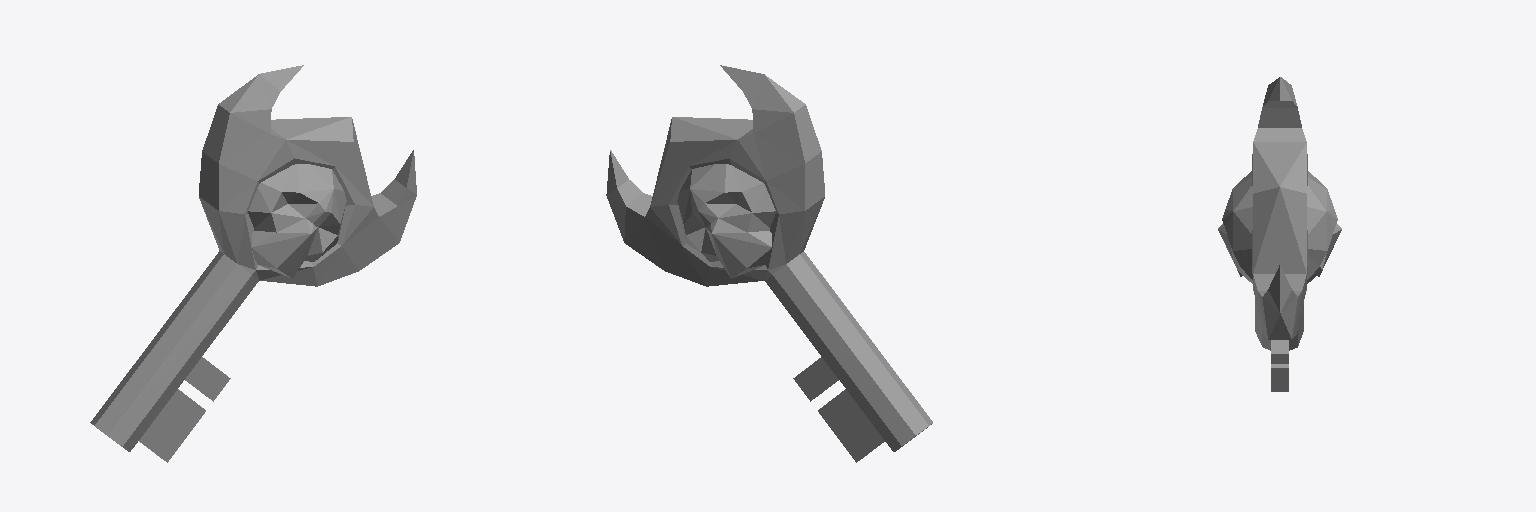
Rendered from Boss_Key.obj.
3 renders of one model, left to right at view 1: azimuth 30°, elevation 25°; view 2: azimuth 150°, elevation 25°; view 3: azimuth 270°, elevation 25°, orthographic.
Visible parts, largest first — view 1: bosskey_key_geom-0362AF4B, bosskey_skull_geom-027829A8; view 2: bosskey_key_geom-0362AF4B, bosskey_skull_geom-027829A8; view 3: bosskey_key_geom-0362AF4B, bosskey_skull_geom-027829A8.
Part boxes in pixels (x1,y1,x2,y2): bosskey_key_geom-0362AF4B: (90,65,416,462); bosskey_skull_geom-027829A8: (248,164,346,278); bosskey_key_geom-0362AF4B: (606,65,932,462); bosskey_skull_geom-027829A8: (677,164,775,278); bosskey_key_geom-0362AF4B: (1252,77,1307,391); bosskey_skull_geom-027829A8: (1218,171,1341,283).
Bounding box in the file's own units: 0.6695 × 0.7177 × 0.2238.